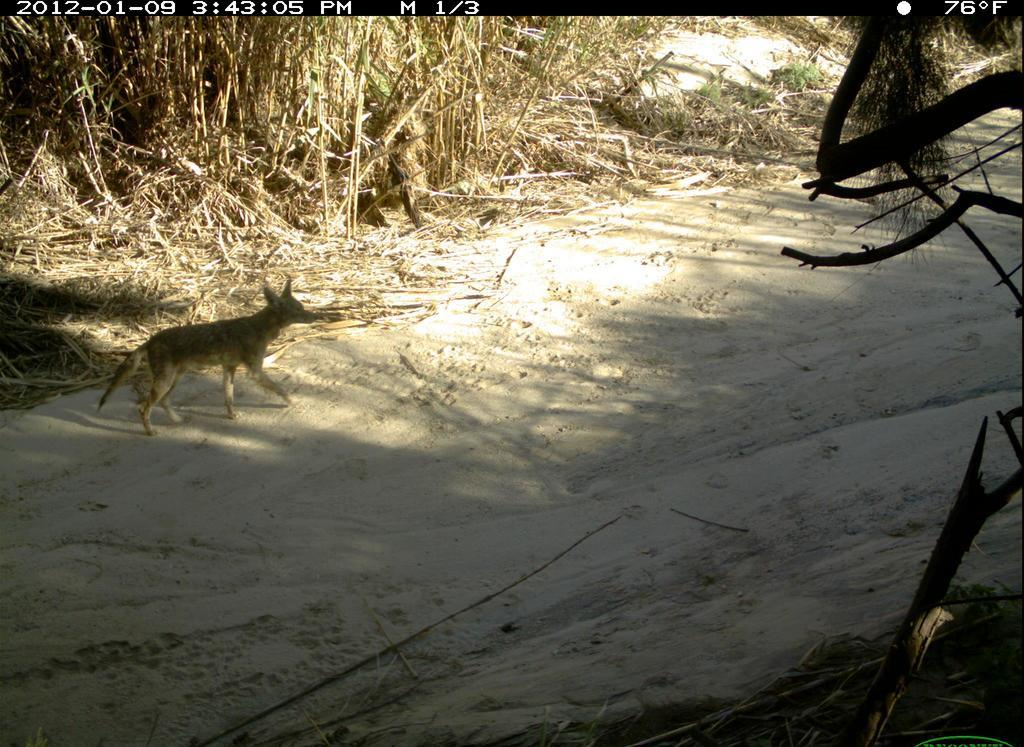coyote: (91, 274, 322, 443)
